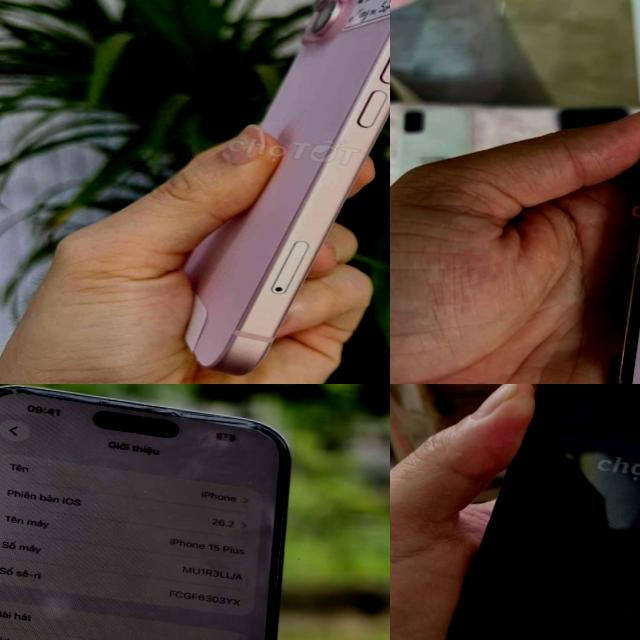gen_12_13: (84, 0, 390, 384)
gen_15: (0, 384, 322, 640)
gen_x_xs: (423, 384, 640, 640)
